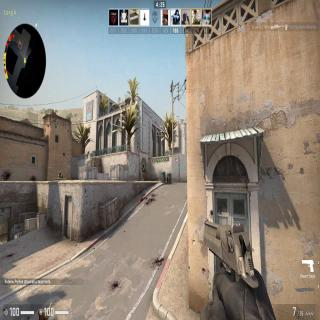CT-Body: (141, 164, 146, 179), (58, 172, 62, 178)
CT-Head: (142, 164, 144, 166), (59, 172, 61, 174)
